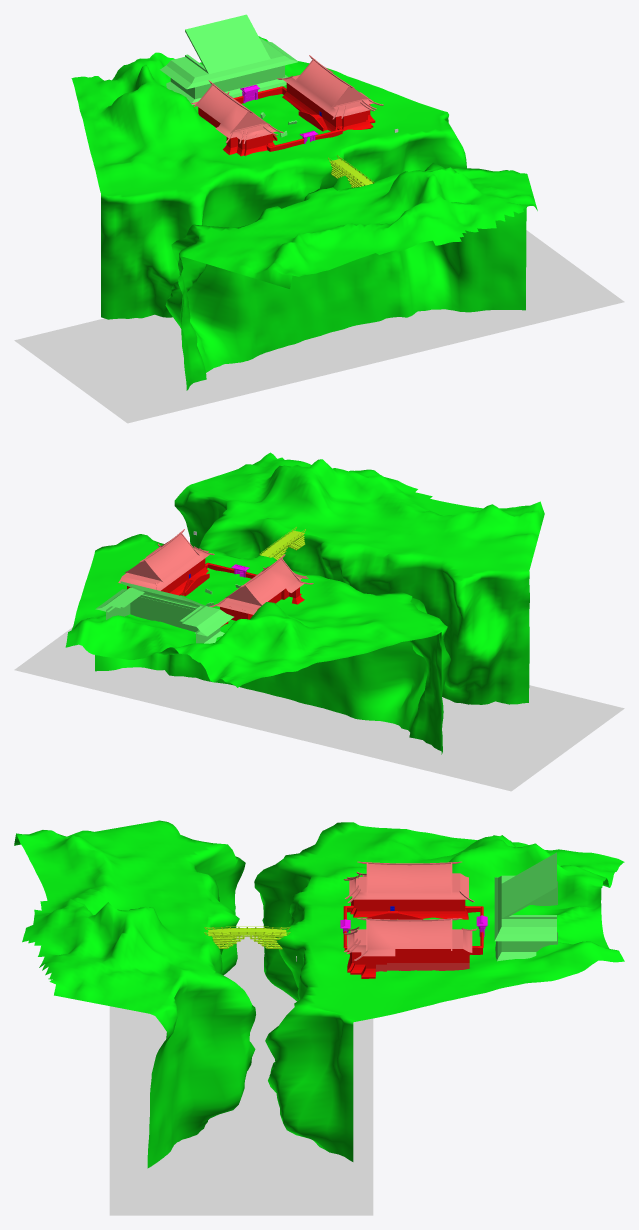
The model's file is Completed Environment.fbx.
The picture shows the model from 3 angles, top to bottom: view 1: azimuth 30°, elevation 25°; view 2: azimuth 150°, elevation 25°; view 3: azimuth 270°, elevation 25°; orthographic projection. The views are drawn at different scales.
Visible parts, largest first — view 1: Mountain Gorge - Start, Mountain Gorge - Temple, Death Plane (Gorge), Background Building - Roof, East Wing - Roof, West Wing - Roof, Background Builidng, Inner Wall - East Wing (Upper), West Wing - Outer Wall, Curved Wall - East Wing, Box003; view 2: Mountain Gorge - Start, Mountain Gorge - Temple, Death Plane (Gorge), East Wing - Roof, Background Building - Roof, West Wing - Roof, Background Builidng; view 3: Mountain Gorge - Temple, Mountain Gorge - Start, Death Plane (Gorge), Background Building - Roof, West Wing - Roof, East Wing - Roof, Inner Wall - East Wing (Upper), West Wing - Outer Wall, Background Builidng, Inner Wall - East Wing (Lower), West Wing - Curved Wall, Bridge.
Boxes of the visible parts, x1,y1,x2,y2 form: Mountain Gorge - Start: (165,163,537,390); Mountain Gorge - Temple: (71,36,466,319); Death Plane (Gorge): (14,230,624,423); Background Building - Roof: (160,14,298,89); East Wing - Roof: (283,60,374,117); West Wing - Roof: (191,85,277,139); Background Builidng: (170,65,284,99); Inner Wall - East Wing (Upper): (286,83,370,127); West Wing - Outer Wall: (198,107,272,149); Curved Wall - East Wing: (282,91,375,131); Box003: (166,75,288,105); Mountain Gorge - Start: (174,452,544,704); Mountain Gorge - Temple: (65,534,450,754); Death Plane (Gorge): (14,627,624,791); East Wing - Roof: (118,534,209,590); Background Building - Roof: (95,581,233,636); West Wing - Roof: (216,559,304,614); Background Builidng: (106,595,220,643); Mountain Gorge - Temple: (254,822,624,1161); Mountain Gorge - Start: (14,820,255,1168); Death Plane (Gorge): (109,935,373,1215); Background Building - Roof: (494,852,556,941); West Wing - Roof: (349,863,468,899); East Wing - Roof: (347,920,472,956); Inner Wall - East Wing (Upper): (352,949,469,968); West Wing - Outer Wall: (353,899,465,911); Background Builidng: (501,881,557,951); Inner Wall - East Wing (Lower): (375,963,469,975); West Wing - Curved Wall: (350,898,468,919); Bridge: (208,928,286,936).
Size of the model in its own units: 119194 by 44330 by 109121.
